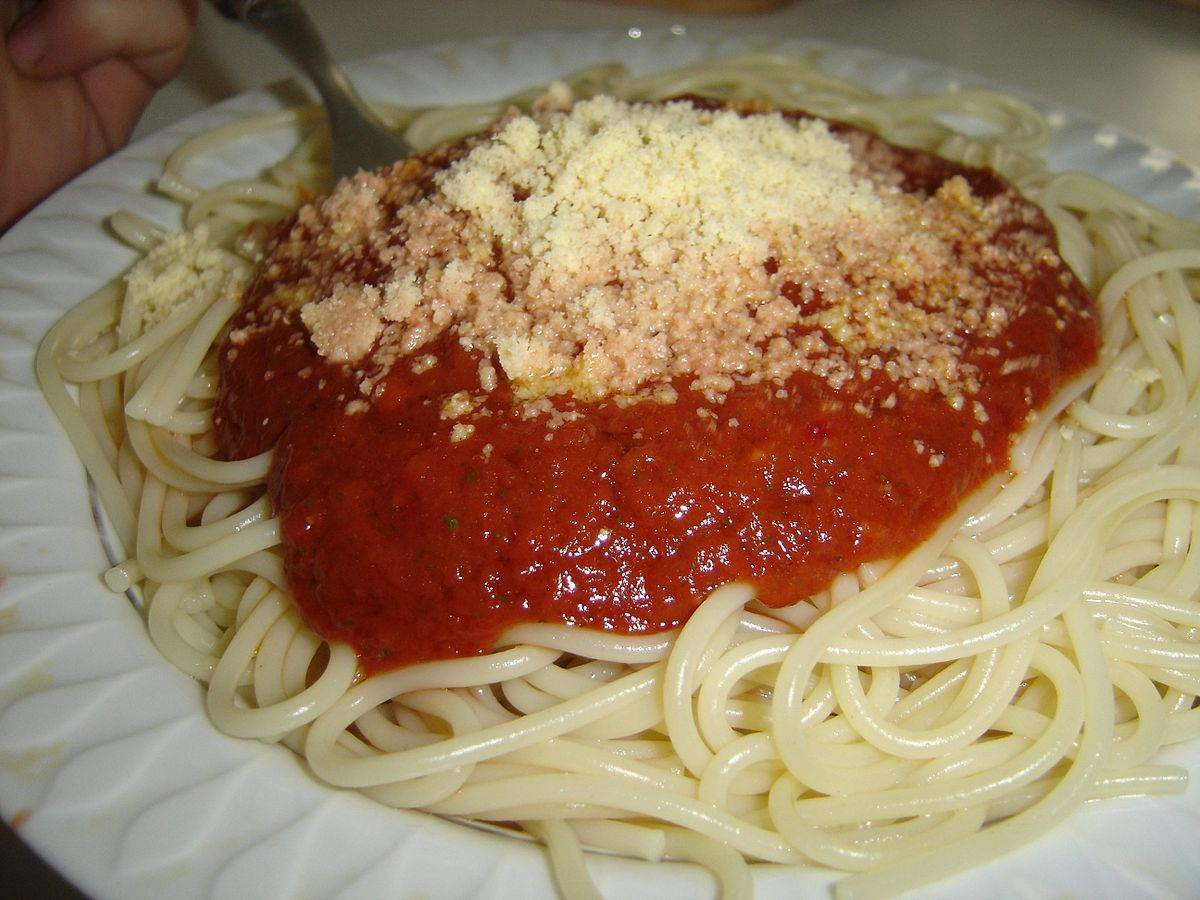plain spaghetti: (99, 122, 1200, 823)
